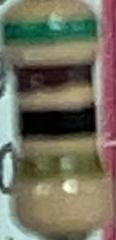Black: (20, 101, 97, 142)
Brown: (13, 57, 93, 94)
Green: (4, 15, 98, 51)
Side-Gold: (17, 148, 105, 189)
